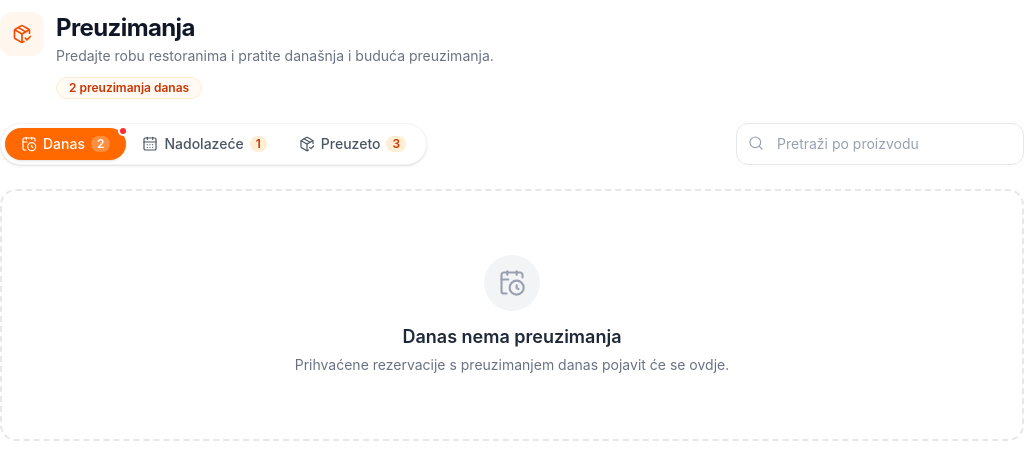
Test: PickupsPage › loads another scope when a tab is chosen
Expected: the heading "Danas nema preuzimanja" is shown, [402, 326, 622, 347]
What coordinates should you click on to do the following:
click the tab "Nadolazeće 1"
I would click on:
 (205, 144)
Its box is [126, 128, 283, 160].
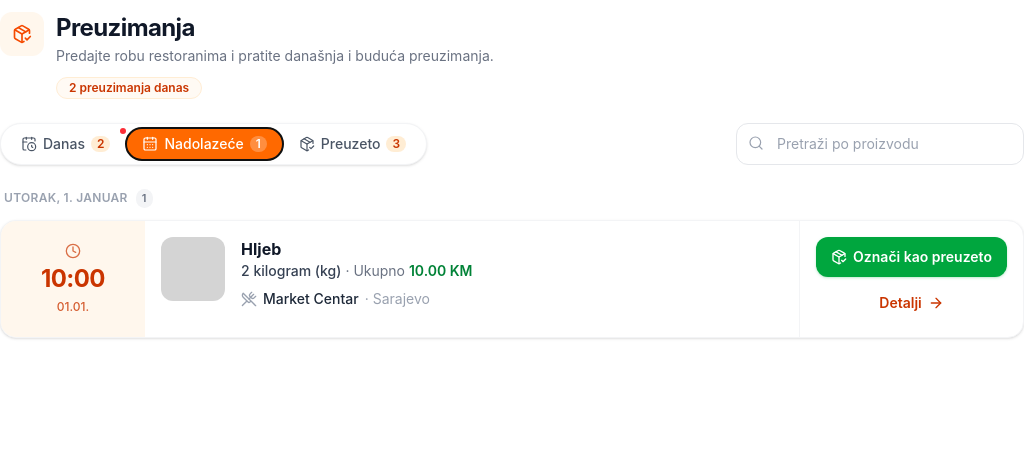
Expected: the heading "Hljeb" is shown, [241, 239, 281, 259]
